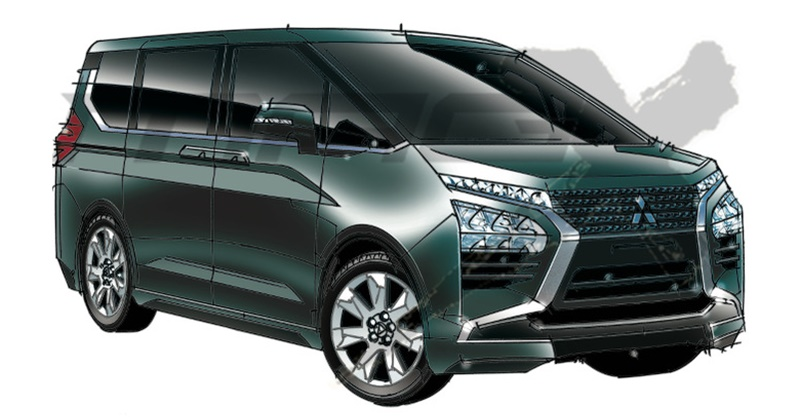van: (48, 21, 750, 409)
